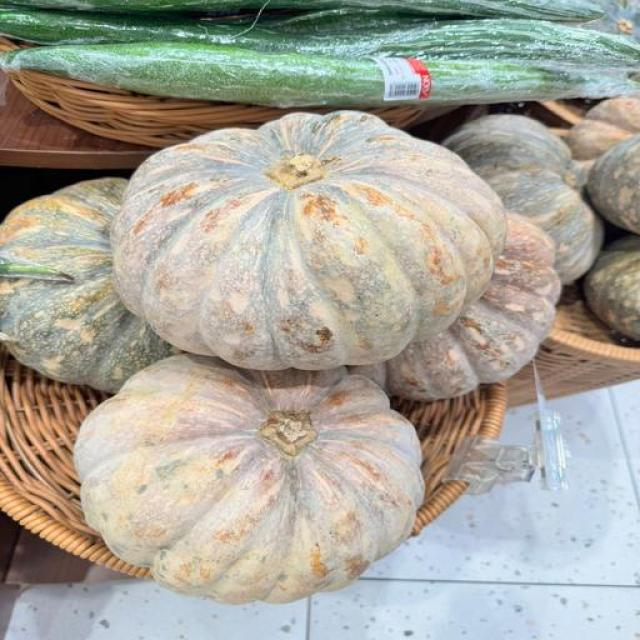organic: (0, 9, 639, 72), (0, 178, 172, 392), (444, 114, 603, 283), (0, 43, 393, 107), (379, 19, 639, 72), (15, 0, 602, 21), (260, 3, 602, 34), (0, 7, 264, 46), (584, 234, 639, 346), (259, 7, 446, 36), (587, 135, 639, 234), (584, 0, 639, 39), (0, 255, 73, 282), (408, 59, 431, 98)
